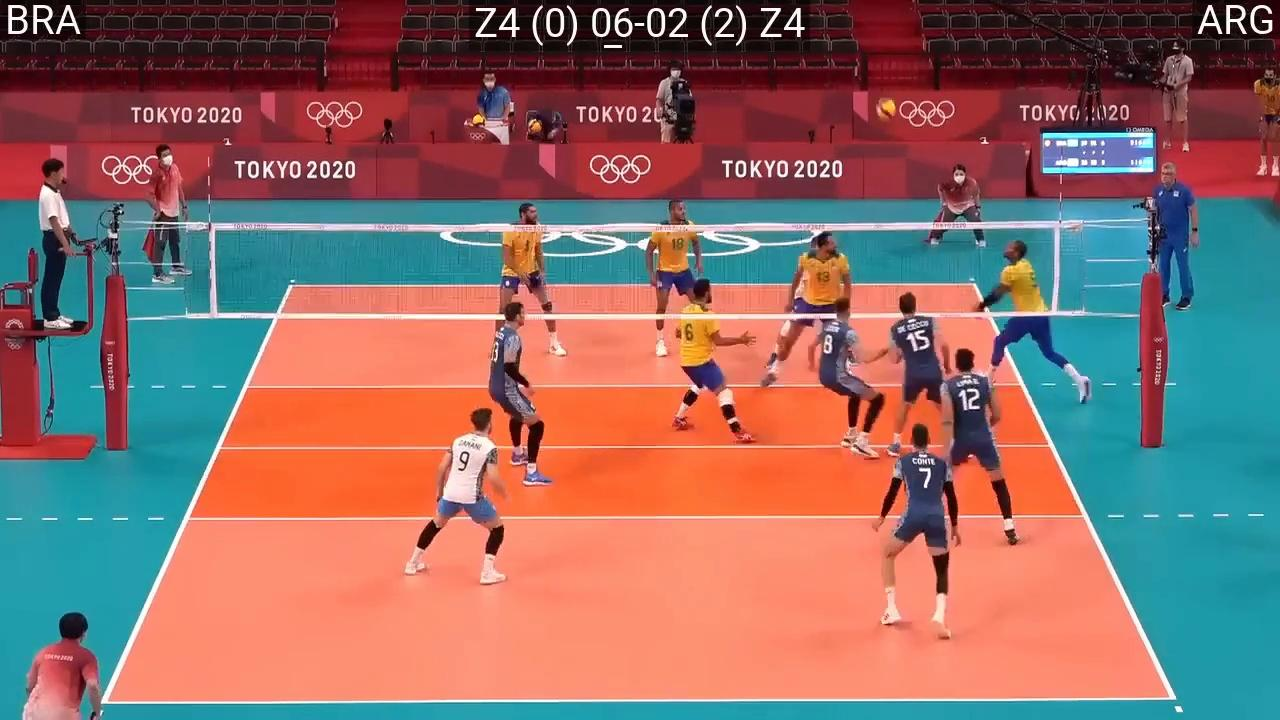ball: (875, 98, 896, 121)
